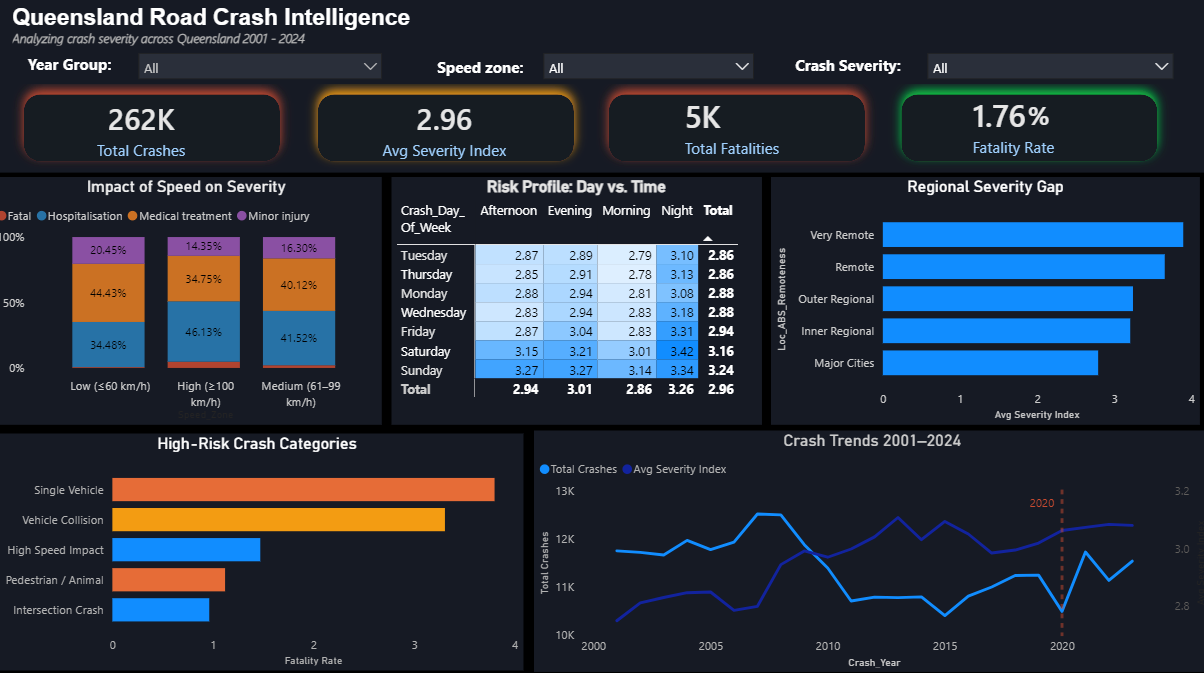

The dashboard page shown, as its layout file describes it:
{"tool":"powerbi","page":{"name":"Page 1","canvas":[1280,720],"ordinal":0},"visuals":[{"type":"hundredPercentStackedColumnChart","title":"Impact of Speed on Severity","fields":{"Category":["crash_incidents.Speed_Zone"],"Y":["_Key Measures.Total Crashes"],"Series":["crash_incidents.Crash_Severity"]},"box":[0,191.7,410,260],"z":0},{"type":"pivotTable","title":"Risk Profile: Day vs. Time","fields":{"Rows":["crash_incidents.Crash_Day_Of_Week"],"Columns":["crash_incidents.Time_Category"],"Values":["_Key Measures.Avg Severity Index"]},"box":[420,191.7,388.3,260],"z":1000},{"type":"clusteredBarChart","title":"High-Risk Crash Categories","fields":{"Category":["crash_incidents.Crash_Nature_Group"],"Y":["_Key Measures.Fatality Rate"]},"box":[0,461.7,558.3,248.3],"z":2000},{"type":"lineChart","title":"Crash Trends 2001–2024","fields":{"Category":["crash_incidents.Crash_Year"],"Y":["_Key Measures.Total Crashes"],"Y2":["_Key Measures.Avg Severity Index"]},"box":[570,458.3,710,253.3],"z":3000},{"type":"clusteredBarChart","title":"Regional Severity Gap","fields":{"Y":["_Key Measures.Avg Severity Index"],"Category":["crash_incidents.Loc_ABS_Remoteness"]},"box":[818,192,450,260],"z":5000},{"type":"shape","box":[0,4.3,1280,182.9],"z":11000},{"type":"slicer","fields":{"Values":["crash_incidents.Speed_Zone"]},"box":[569.5,51.4,240.8,61],"z":12000},{"type":"slicer","fields":{"Values":["crash_incidents.Crash_Severity"]},"box":[972.9,51.4,277.9,37.4],"z":13000},{"type":"textbox","box":[18.2,57.2,127.8,41.8],"z":14000},{"type":"shape","box":[939,89.3,299.7,101.6],"z":14000,"group":"g1"},{"type":"shape","box":[632.9,89.4,299.7,101.6],"z":15000},{"type":"textbox","box":[419.8,59.2,186.6,43.2],"z":16000},{"type":"cardVisual","fields":{"Data":["_Key Measures.Fatality Rate"]},"box":[1000.3,85.3,184.7,106.3],"z":16000,"group":"g1"},{"type":"textbox","box":[808.3,58.4,180.6,39.3],"z":17000},{"type":"shape","box":[327.5,89.4,299.7,101.6],"z":18000},{"type":"shape","box":[18.2,89.4,299.7,101.6],"z":19000},{"type":"slicer","fields":{"Values":["crash_incidents.Year_Group"]},"box":[144.1,51.4,275.6,39.2],"z":20000},{"type":"cardVisual","fields":{"Data":["_Key Measures.Total Fatalities"]},"box":[698.2,88.1,262.9,102.9],"z":21000},{"type":"cardVisual","fields":{"Data":["_Key Measures.Avg Severity Index"]},"box":[345.3,90.7,262.9,100.3],"z":22000},{"type":"cardVisual","fields":{"Data":["_Key Measures.Total Crashes"]},"box":[76.7,90.7,161.4,100.3],"z":23000},{"type":"group","id":"g1","title":"Group 1","box":[939,85.3,299.7,106.3],"z":25000},{"type":"textbox","box":[17.1,4.3,765.7,40],"z":26000},{"type":"textbox","box":[16.8,30.8,429.5,28],"z":27000},{"type":"textbox","box":[1082.8,104.9,68.6,69.9],"z":29000,"group":"g1"}]}

Visuals, with their boxes in screenshot pixels (x1, y1, x2, y2), scaled from the page's 1280x720 canvas onto the 1204x673 screenshot:
"Impact of Speed on Severity" hundredPercentStackedColumnChart: <region>0, 179, 386, 422</region>
"Risk Profile: Day vs. Time" pivotTable: <region>395, 179, 760, 422</region>
"High-Risk Crash Categories" clusteredBarChart: <region>0, 432, 525, 664</region>
"Crash Trends 2001–2024" lineChart: <region>536, 428, 1203, 665</region>
"Regional Severity Gap" clusteredBarChart: <region>769, 179, 1193, 422</region>
shape: <region>0, 4, 1203, 175</region>
slicer - crash_incidents.Speed_Zone: <region>536, 48, 762, 105</region>
slicer - crash_incidents.Crash_Severity: <region>915, 48, 1177, 83</region>
textbox: <region>17, 53, 137, 93</region>
shape: <region>883, 83, 1165, 178</region>
shape: <region>595, 84, 877, 179</region>
textbox: <region>395, 55, 570, 96</region>
cardVisual - _Key Measures.Fatality Rate: <region>941, 80, 1115, 179</region>
textbox: <region>760, 55, 930, 91</region>
shape: <region>308, 84, 590, 179</region>
shape: <region>17, 84, 299, 179</region>
slicer - crash_incidents.Year_Group: <region>136, 48, 395, 85</region>
cardVisual - _Key Measures.Total Fatalities: <region>657, 82, 904, 179</region>
cardVisual - _Key Measures.Avg Severity Index: <region>325, 85, 572, 179</region>
cardVisual - _Key Measures.Total Crashes: <region>72, 85, 224, 179</region>
"Group 1" group: <region>883, 80, 1165, 179</region>
textbox: <region>16, 4, 736, 41</region>
textbox: <region>16, 29, 420, 55</region>
textbox: <region>1019, 98, 1083, 163</region>
